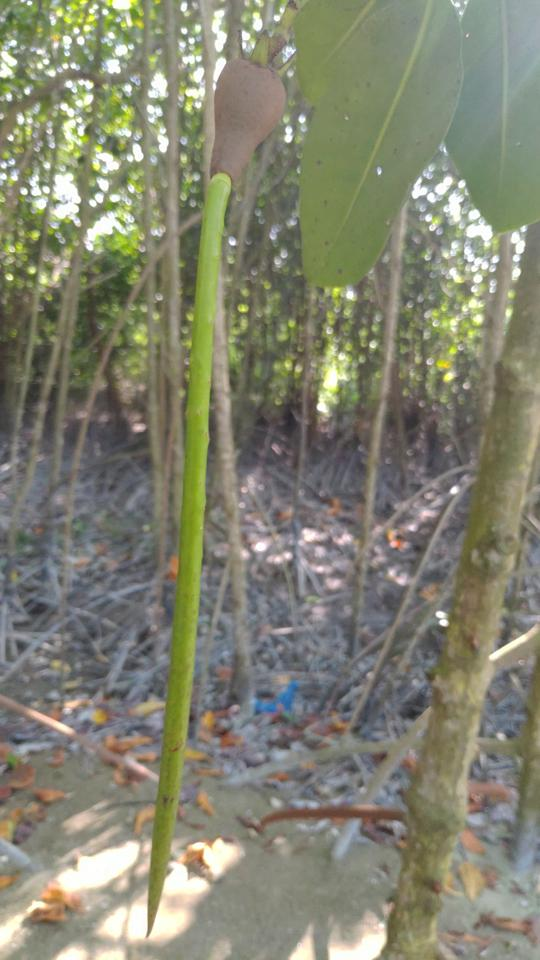setengah matang: (142, 18, 306, 938)
